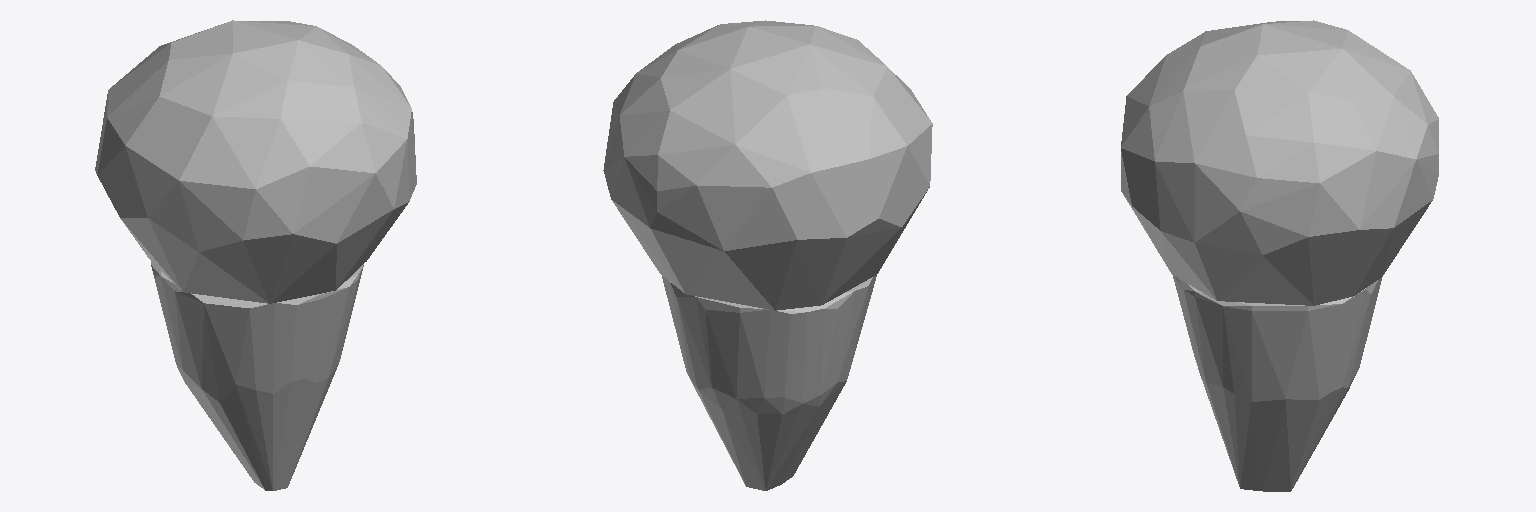
The robot description file, URDF, robot "root":
<robot name="root">
  <link name="link_521f37f550e76a93e099b7f3cb49e47d_convex_piece_0">
    <inertial>
      <origin rpy="0 0 0" xyz="0 0 0"/>
      <mass value="1.08E-05"/>
      <inertia ixx="1.15E-09" ixy="-1.94E-12" ixz="-1.54E-11" iyy="1.15E-09" iyz="3.02E-11" izz="8.45E-10"/>
    </inertial>
    <visual>
      <origin rpy="0 0 0" xyz="0 0 0"/>
      <geometry>
        <mesh filename="521f37f550e76a93e099b7f3cb49e47d_convex_piece_0.obj" scale="1.0000E+00"/>
      </geometry>
      <material name="">
        <color rgba="7.50E-01 7.50E-01 7.50E-01 1"/>
      </material>
    </visual>
    <collision>
      <origin rpy="0 0 0" xyz="0 0 0"/>
      <geometry>
        <mesh filename="521f37f550e76a93e099b7f3cb49e47d_convex_piece_0.obj" scale="1.0000E+00"/>
      </geometry>
    </collision>
  </link>
  <link name="link_521f37f550e76a93e099b7f3cb49e47d_convex_piece_1">
    <inertial>
      <origin rpy="0 0 0" xyz="0 0 0"/>
      <mass value="3.48E-05"/>
      <inertia ixx="1.08E-08" ixy="-5.07E-12" ixz="6.40E-11" iyy="1.08E-08" iyz="2.27E-11" izz="7.29E-09"/>
    </inertial>
    <visual>
      <origin rpy="0 0 0" xyz="0 0 0"/>
      <geometry>
        <mesh filename="521f37f550e76a93e099b7f3cb49e47d_convex_piece_1.obj" scale="1.0000E+00"/>
      </geometry>
      <material name="">
        <color rgba="7.50E-01 7.50E-01 7.50E-01 1"/>
      </material>
    </visual>
    <collision>
      <origin rpy="0 0 0" xyz="0 0 0"/>
      <geometry>
        <mesh filename="521f37f550e76a93e099b7f3cb49e47d_convex_piece_1.obj" scale="1.0000E+00"/>
      </geometry>
    </collision>
  </link>
  <joint name="link_521f37f550e76a93e099b7f3cb49e47d_convex_piece_1_joint" type="fixed">
    <origin rpy="0 0 0" xyz="0 0 0"/>
    <parent link="link_521f37f550e76a93e099b7f3cb49e47d_convex_piece_0"/>
    <child link="link_521f37f550e76a93e099b7f3cb49e47d_convex_piece_1"/>
  </joint>
</robot>

--- Render facts (derived) ---
3 views of the same robot in one strip: view 1: azimuth 30°, elevation 25°; view 2: azimuth 150°, elevation 25°; view 3: azimuth 270°, elevation 25° (orthographic).
Robot: root — 2 links, 1 joints (1 fixed); root link link_521f37f550e76a93e099b7f3cb49e47d_convex_piece_0; default pose: all joints at 0.
Visible links, largest first — view 1: link_521f37f550e76a93e099b7f3cb49e47d_convex_piece_1, link_521f37f550e76a93e099b7f3cb49e47d_convex_piece_0; view 2: link_521f37f550e76a93e099b7f3cb49e47d_convex_piece_1, link_521f37f550e76a93e099b7f3cb49e47d_convex_piece_0; view 3: link_521f37f550e76a93e099b7f3cb49e47d_convex_piece_1, link_521f37f550e76a93e099b7f3cb49e47d_convex_piece_0.
Link boxes in pixels (bbox=[...]): link_521f37f550e76a93e099b7f3cb49e47d_convex_piece_1: bbox=[95, 20, 416, 303]; link_521f37f550e76a93e099b7f3cb49e47d_convex_piece_0: bbox=[151, 261, 363, 490]; link_521f37f550e76a93e099b7f3cb49e47d_convex_piece_1: bbox=[603, 20, 932, 310]; link_521f37f550e76a93e099b7f3cb49e47d_convex_piece_0: bbox=[662, 275, 876, 490]; link_521f37f550e76a93e099b7f3cb49e47d_convex_piece_1: bbox=[1121, 20, 1438, 305]; link_521f37f550e76a93e099b7f3cb49e47d_convex_piece_0: bbox=[1173, 276, 1381, 491].
Bounding box of the posed robot: 0.0448 × 0.0448 × 0.0687 m (x, y, z).
2 mesh visuals loaded from 2 distinct referenced files (2 OBJ).